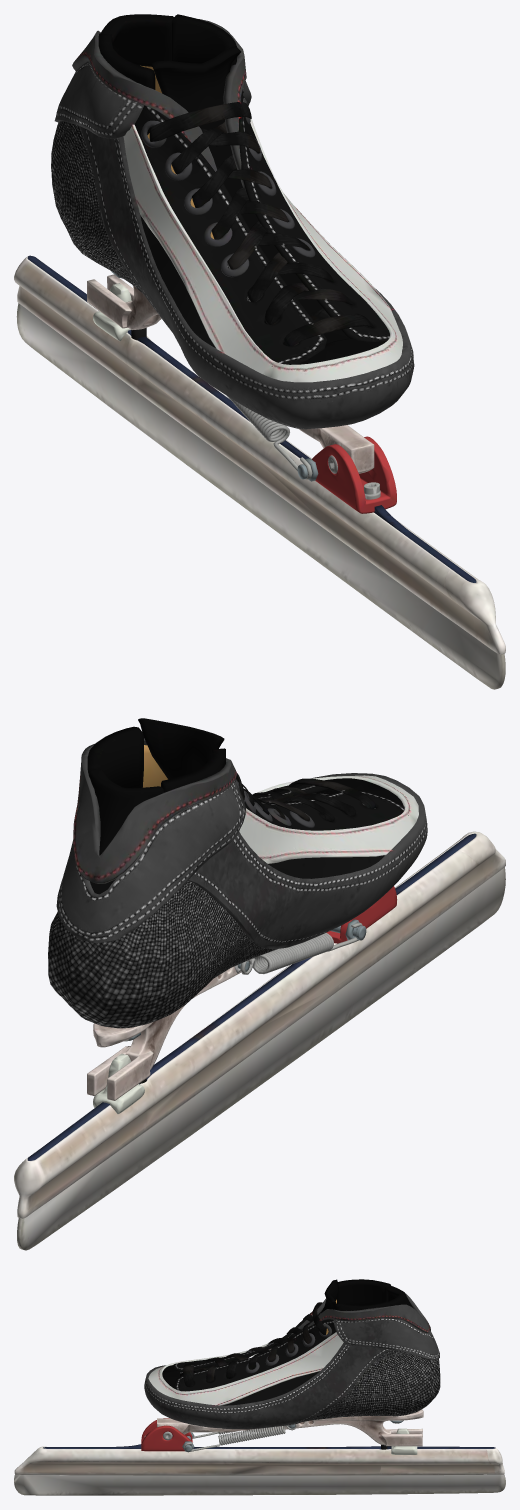
File: Left_Speed_Skate_optimized.glb
The picture shows the model from 3 angles, top to bottom: view 1: azimuth 30°, elevation 25°; view 2: azimuth 150°, elevation 25°; view 3: azimuth 270°, elevation 25°; orthographic projection. The views are drawn at different scales.
Visible parts, largest first — view 1: SpeedSkate_Left; view 2: SpeedSkate_Left; view 3: SpeedSkate_Left.
Boxes of the visible parts, bbox=[...] form: SpeedSkate_Left: bbox=[14, 14, 505, 689]; SpeedSkate_Left: bbox=[14, 718, 505, 1250]; SpeedSkate_Left: bbox=[14, 1279, 505, 1495].
Bounding box in the file's own units: 0.1231 × 0.2512 × 0.5388.
1 material, 1 textured.
